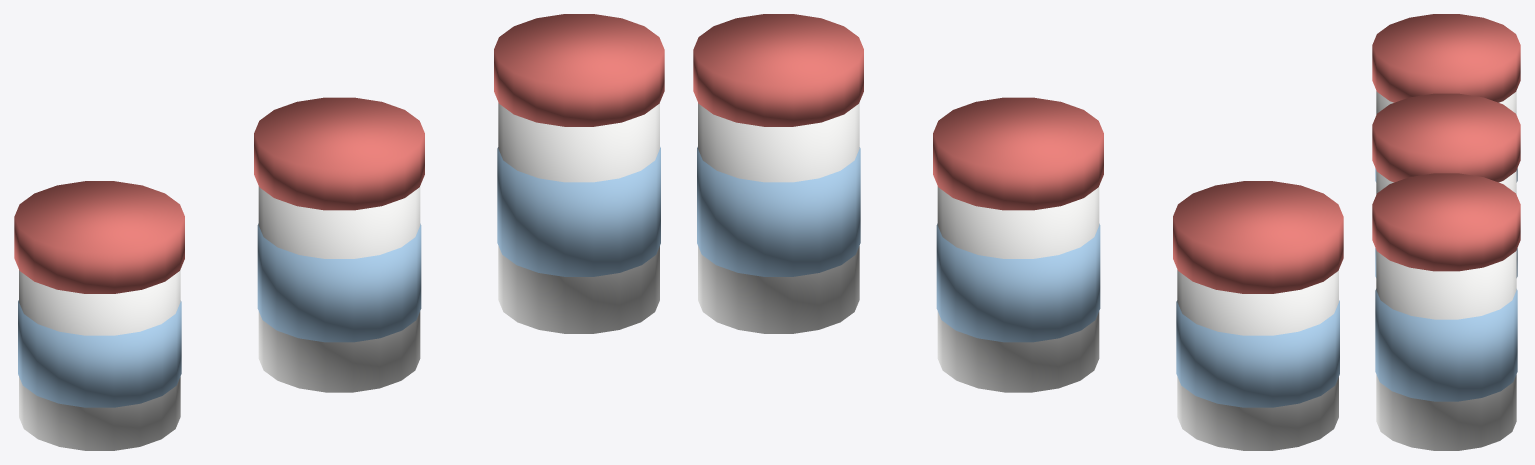
Rendered from escena.casa.remedios.fbx.
3 views of the same model, side by side, from view 1: azimuth 30°, elevation 25°; view 2: azimuth 150°, elevation 25°; view 3: azimuth 270°, elevation 25° (orthographic). The views are drawn at different scales.
Visible parts, largest first — view 1: Frasco, Tapa.001, Tapa.002, Tapa, Frasco.001, Etiqueta, Etiqueta.001, Frasco.002, Etiqueta.002; view 2: Frasco, Tapa.001, Tapa.002, Tapa, Frasco.001, Etiqueta, Etiqueta.001, Frasco.002, Etiqueta.002; view 3: Frasco, Tapa, Etiqueta, Tapa.001, Tapa.002, Frasco.001, Frasco.002.
Boxes of the visible parts, x1,y1,x2,y2 form: Frasco: [498, 102, 659, 333]; Tapa.001: [254, 97, 424, 210]; Tapa.002: [14, 181, 184, 293]; Tapa: [494, 14, 664, 126]; Frasco.001: [258, 186, 420, 392]; Etiqueta: [497, 147, 660, 276]; Etiqueta.001: [257, 223, 421, 342]; Frasco.002: [19, 270, 180, 450]; Etiqueta.002: [18, 300, 181, 407]; Frasco: [698, 102, 859, 333]; Tapa.001: [933, 97, 1103, 210]; Tapa.002: [1173, 181, 1343, 293]; Tapa: [693, 14, 863, 126]; Frasco.001: [937, 186, 1099, 392]; Etiqueta: [697, 147, 860, 276]; Etiqueta.001: [936, 223, 1100, 342]; Frasco.002: [1177, 270, 1338, 450]; Etiqueta.002: [1176, 300, 1339, 407]; Frasco: [1376, 250, 1516, 450]; Tapa: [1372, 173, 1520, 271]; Etiqueta: [1375, 289, 1517, 401]; Tapa.001: [1372, 93, 1520, 182]; Tapa.002: [1372, 14, 1520, 102]; Frasco.001: [1376, 170, 1516, 194]; Frasco.002: [1376, 91, 1516, 114].
Bounding box in the file's own units: 0.3129 × 0.12 × 0.074.
